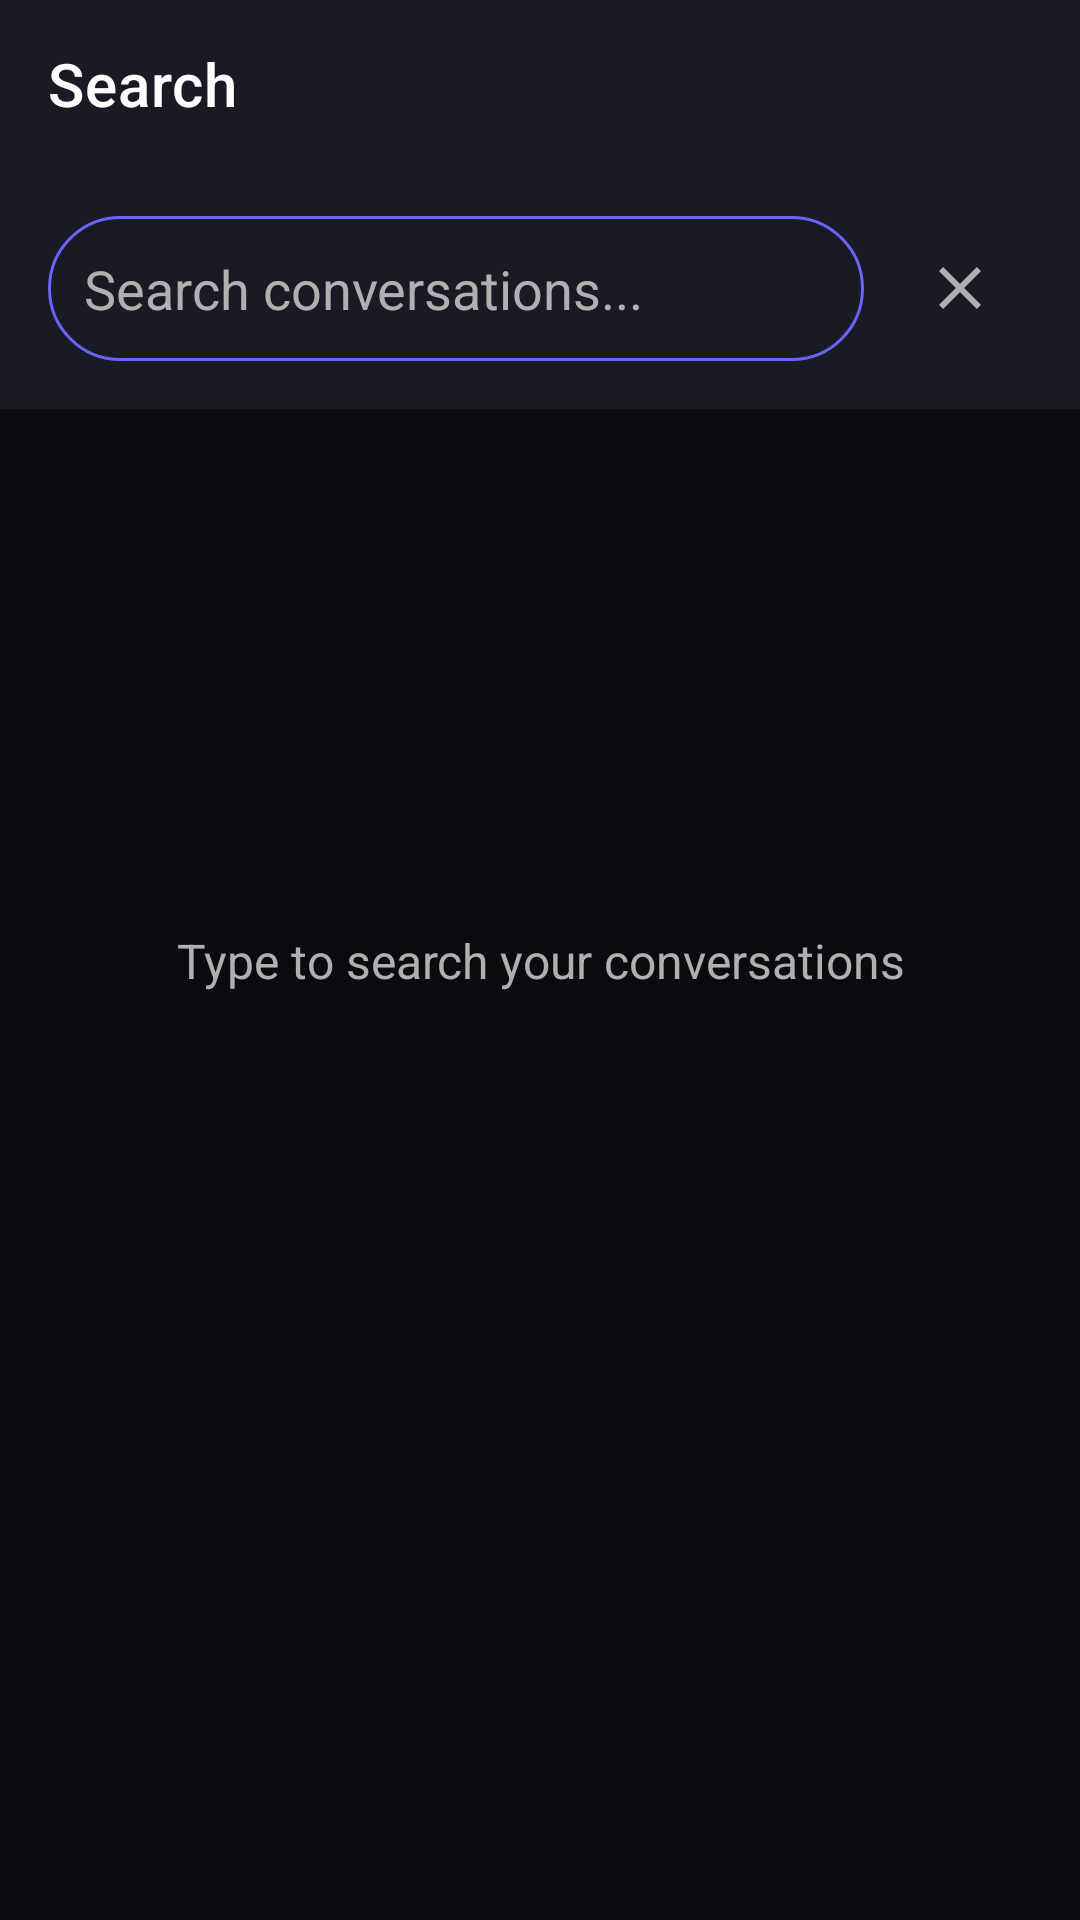

Icon click points for this 1080x1920 phone screenshot, format [x,y]:
clear: [960,288]
